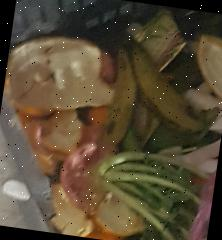organic: (75, 141, 217, 240), (1, 24, 114, 126), (118, 40, 222, 134), (186, 27, 222, 105)
